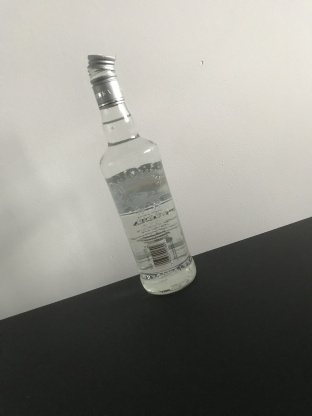nakretka: (85, 51, 125, 112)
